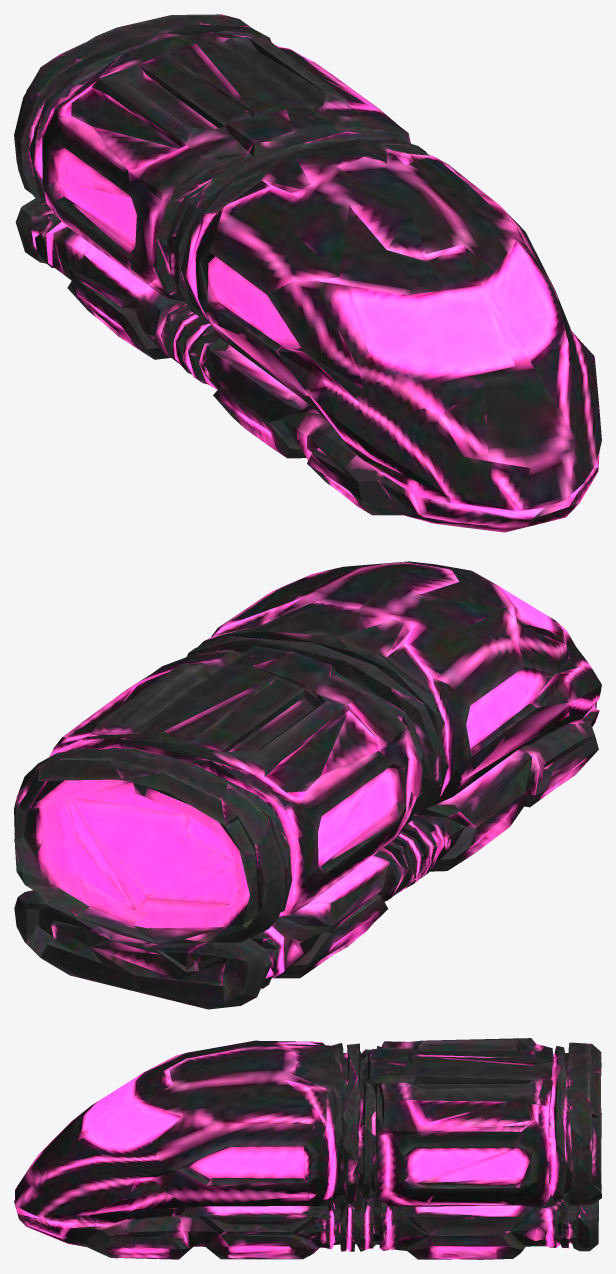
Rendered from train-deep.glb.
The picture shows the model from 3 angles, top to bottom: view 1: azimuth 30°, elevation 25°; view 2: azimuth 150°, elevation 25°; view 3: azimuth 270°, elevation 25°; orthographic projection. The views are drawn at different scales.
Visible parts, largest first — view 1: Mesh_0; view 2: Mesh_0; view 3: Mesh_0.
Part boxes in pixels (x1,y1,x2,y2): Mesh_0: (14,14,601,532); Mesh_0: (14,561,601,1009); Mesh_0: (14,1038,601,1259).
Size of the model in its own units: 0.7257 by 0.6 by 1.9.
1 material, 1 textured.
